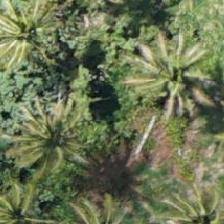coconut_tree: (127, 25, 217, 115), (6, 96, 96, 186), (0, 0, 70, 74), (0, 171, 59, 223)
